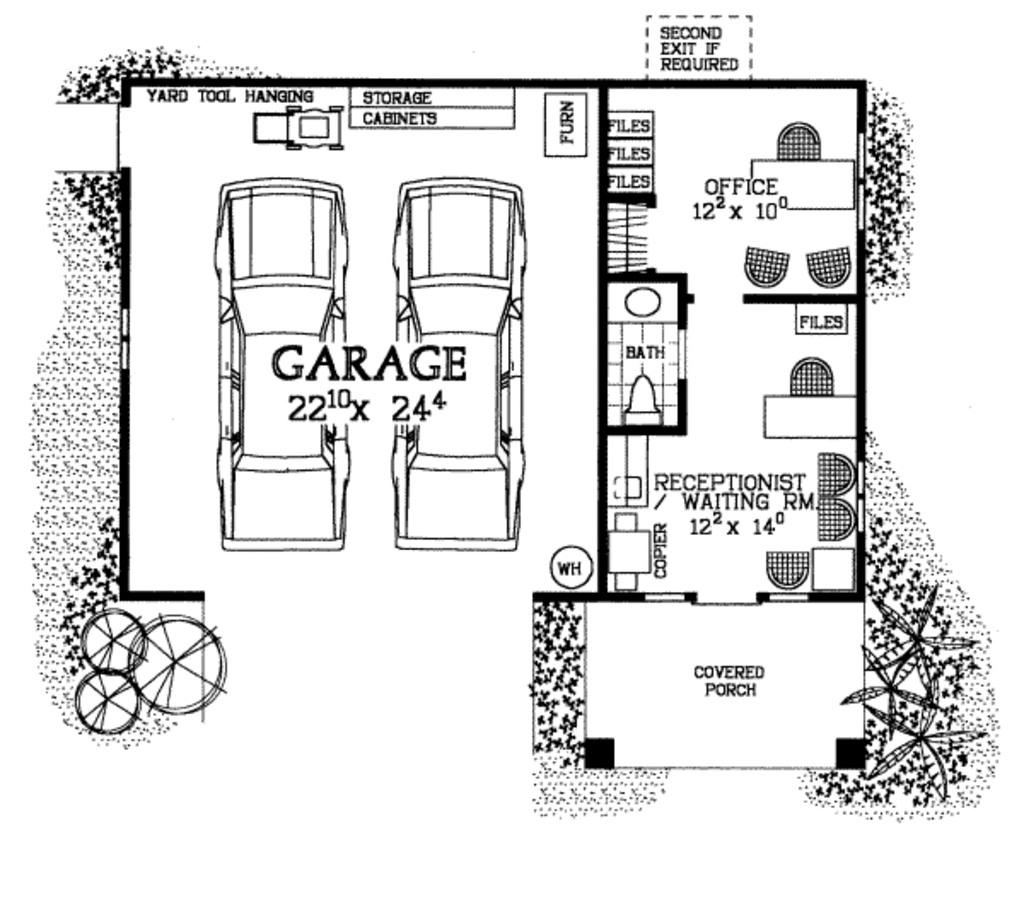large_sink: (618, 365, 674, 433)
small_sink: (596, 280, 681, 333)
window: (857, 137, 873, 180), (120, 333, 133, 380), (857, 180, 868, 233), (120, 306, 134, 343), (861, 457, 864, 497), (863, 497, 866, 530)
